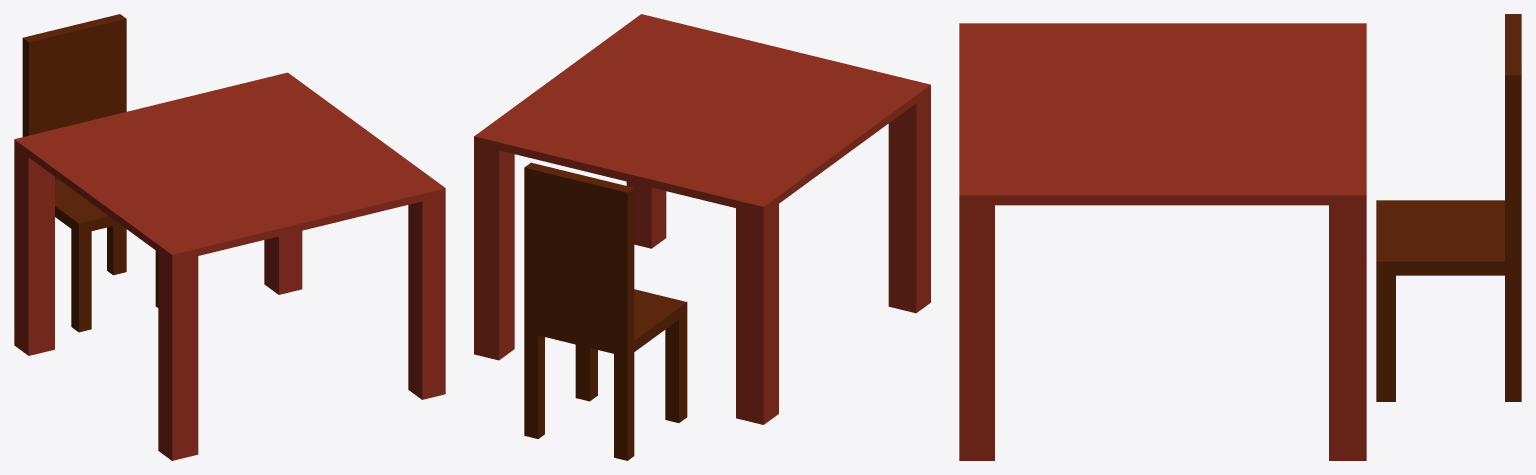
The model's file is table.glb.
3 views of the same model, side by side, from view 1: azimuth 30°, elevation 25°; view 2: azimuth 150°, elevation 25°; view 3: azimuth 270°, elevation 25° (orthographic). The views are drawn at different scales.
Parts seen in each view (by area): view 1: Cube, Cube.002; view 2: Cube, Cube.002; view 3: Cube, Cube.002.
Part boxes in pixels (x1=…): Cube: x1=14, y1=72, x2=445, y2=460; Cube.002: x1=22, y1=14, x2=158, y2=332; Cube: x1=474, y1=14, x2=930, y2=424; Cube.002: x1=524, y1=162, x2=687, y2=460; Cube: x1=959, y1=23, x2=1366, y2=460; Cube.002: x1=1376, y1=14, x2=1521, y2=401.
Size of what is drawn, in the model's own units: 6.93 by 6.13 by 9.57.
